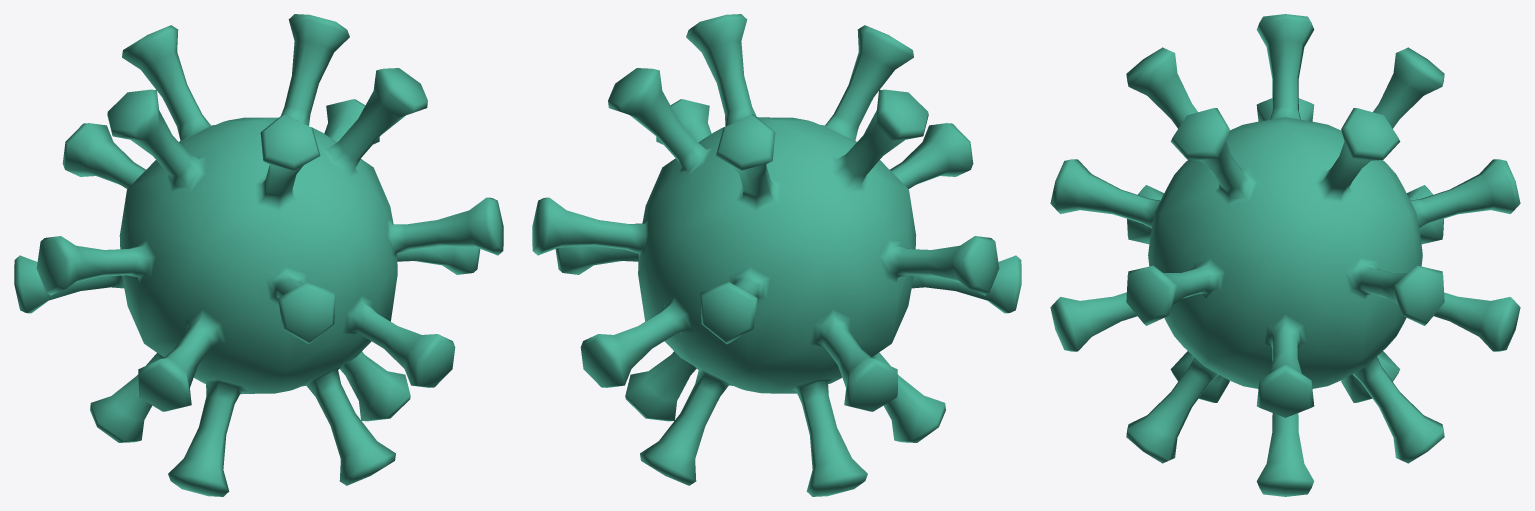
The model's file is virus_lowpoly.fbx.
3 renders of one model, left to right at view 1: azimuth 30°, elevation 25°; view 2: azimuth 150°, elevation 25°; view 3: azimuth 270°, elevation 25°, orthographic.
Visible parts, largest first — view 1: Icosphere.001; view 2: Icosphere.001; view 3: Icosphere.001.
Boxes of the visible parts, <box> form: Icosphere.001: <box>14,14,503,496</box>; Icosphere.001: <box>532,14,1021,496</box>; Icosphere.001: <box>1050,14,1520,496</box>.
Size of the model in its own units: 288 by 248 by 279.
